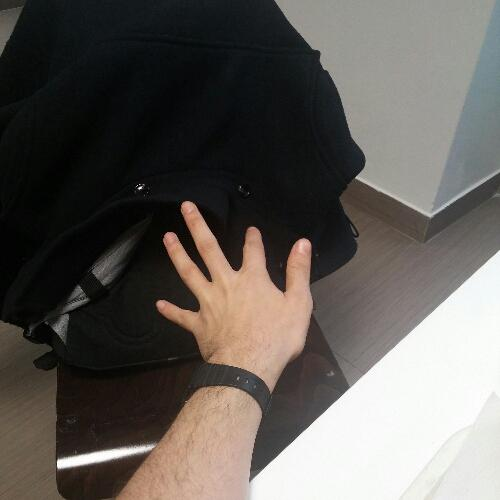paper: (152, 194, 321, 397)
